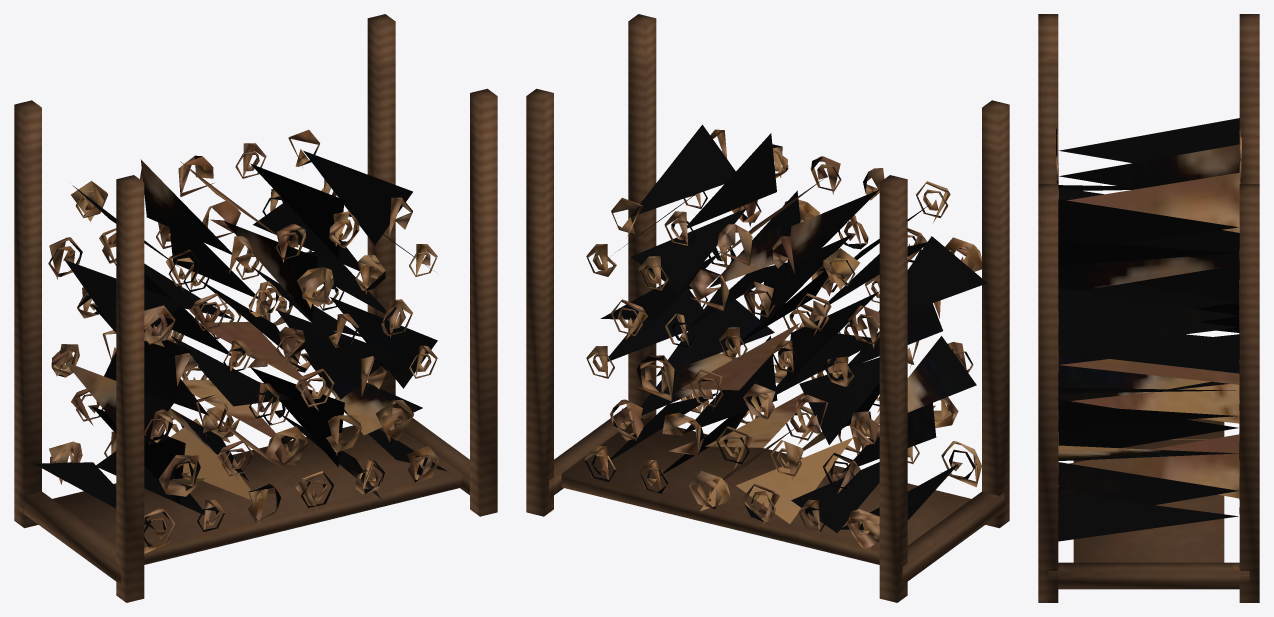
File: log_rack.glb
3 renders of one model, left to right at view 1: azimuth 30°, elevation 25°; view 2: azimuth 150°, elevation 25°; view 3: azimuth 270°, elevation 25°, orthographic.
Parts seen in each view (by area): view 1: prop_log_rack_felt, prop_log_rack_wood; view 2: prop_log_rack_felt, prop_log_rack_wood; view 3: prop_log_rack_felt, prop_log_rack_wood.
Boxes of the visible parts, box(x1,y1,x2,y2) form: prop_log_rack_felt: box(34, 129, 447, 554); prop_log_rack_wood: box(14, 14, 497, 602); prop_log_rack_felt: box(584, 124, 987, 552); prop_log_rack_wood: box(526, 14, 1009, 602); prop_log_rack_felt: box(1056, 118, 1241, 541); prop_log_rack_wood: box(1038, 14, 1259, 602).
Size of the model in its own units: 1.68 by 1.8 by 0.88.
2 materials, 2 textured.
